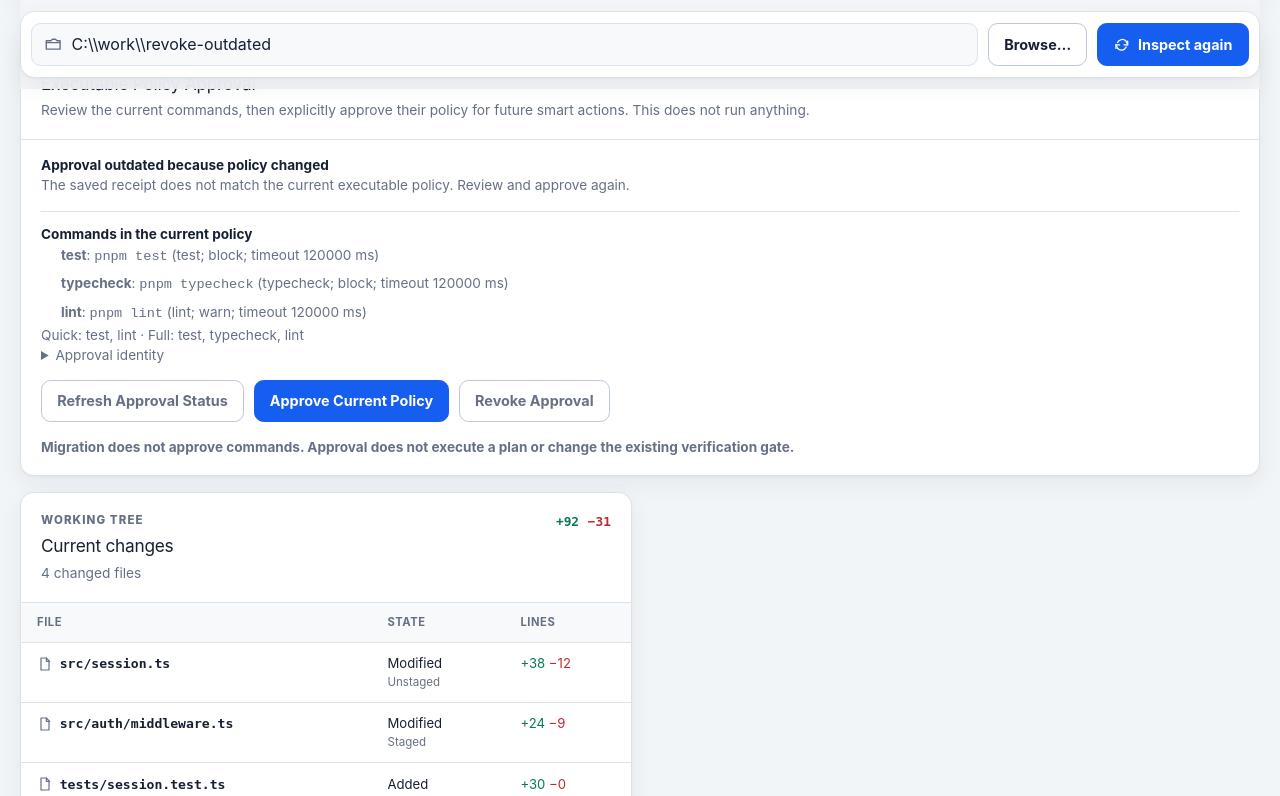
Test: desktop dashboard › allows a stale approval receipt to be explicitly revoked
(page scrolled)
Expected: the text "Approval outdated because policy changed" is shown, [41,156,329,172]
Click the button "Revoke Approval". click: [534, 401]
box: [459,380,610,422]
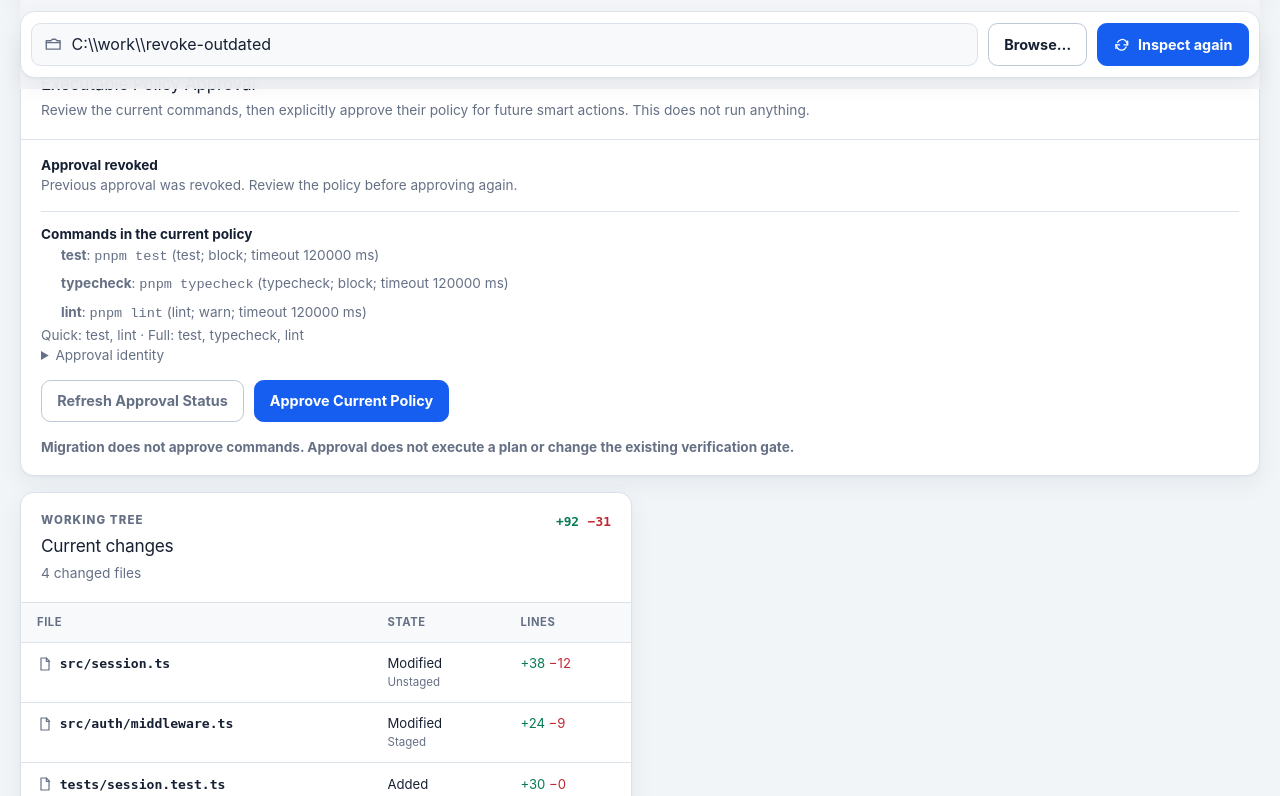
Result: the text "Approval revoked" is shown at [41,156,158,172]
